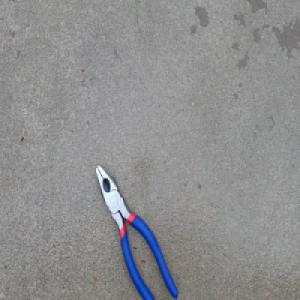Pliers: (94, 163, 178, 299)
